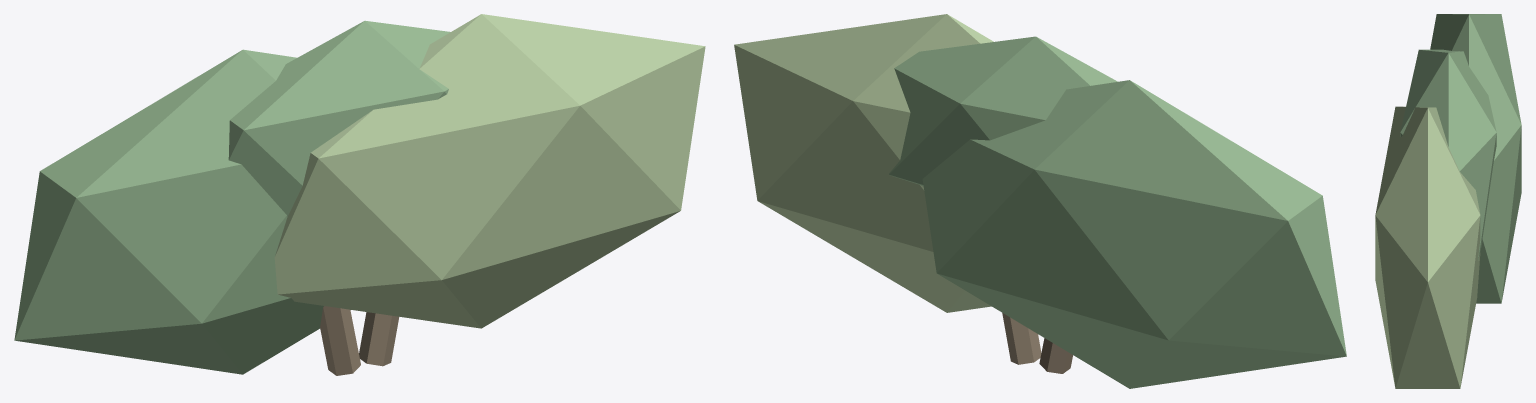
Rendered from SHRUB_COASTAL_LOW_001_v002_LOD_MAP.glb.
3 views of the same model, side by side, from view 1: azimuth 30°, elevation 25°; view 2: azimuth 150°, elevation 25°; view 3: azimuth 270°, elevation 25° (orthographic). The views are drawn at different scales.
Visible parts, largest first — view 1: SHRUB_COASTAL_LOW_001_LOD_MAP_CLUSTER_MAP_002, SHRUB_COASTAL_LOW_001_LOD_MAP_CLUSTER_MAP_001, SHRUB_COASTAL_LOW_001_LOD_MAP_CLUSTER_MAP_003, SHRUB_COASTAL_LOW_001_LOD_MAP_BRANCH_001, SHRUB_COASTAL_LOW_001_LOD_MAP_BRANCH_002; view 2: SHRUB_COASTAL_LOW_001_LOD_MAP_CLUSTER_MAP_001, SHRUB_COASTAL_LOW_001_LOD_MAP_CLUSTER_MAP_002, SHRUB_COASTAL_LOW_001_LOD_MAP_CLUSTER_MAP_003, SHRUB_COASTAL_LOW_001_LOD_MAP_BRANCH_002, SHRUB_COASTAL_LOW_001_LOD_MAP_BRANCH_001; view 3: SHRUB_COASTAL_LOW_001_LOD_MAP_CLUSTER_MAP_002, SHRUB_COASTAL_LOW_001_LOD_MAP_CLUSTER_MAP_001, SHRUB_COASTAL_LOW_001_LOD_MAP_CLUSTER_MAP_003.
Boxes of the visible parts, x1,y1,x2,y2 form: SHRUB_COASTAL_LOW_001_LOD_MAP_CLUSTER_MAP_002: (274,14,705,328); SHRUB_COASTAL_LOW_001_LOD_MAP_CLUSTER_MAP_001: (14,49,350,374); SHRUB_COASTAL_LOW_001_LOD_MAP_CLUSTER_MAP_003: (228,20,450,216); SHRUB_COASTAL_LOW_001_LOD_MAP_BRANCH_001: (320,306,360,375); SHRUB_COASTAL_LOW_001_LOD_MAP_BRANCH_002: (359,312,399,366); SHRUB_COASTAL_LOW_001_LOD_MAP_CLUSTER_MAP_001: (922,80,1346,388); SHRUB_COASTAL_LOW_001_LOD_MAP_CLUSTER_MAP_002: (734,14,993,312); SHRUB_COASTAL_LOW_001_LOD_MAP_CLUSTER_MAP_003: (889,36,1117,186); SHRUB_COASTAL_LOW_001_LOD_MAP_BRANCH_002: (1002,313,1041,364); SHRUB_COASTAL_LOW_001_LOD_MAP_BRANCH_001: (1039,338,1072,373); SHRUB_COASTAL_LOW_001_LOD_MAP_CLUSTER_MAP_002: (1375,106,1480,388); SHRUB_COASTAL_LOW_001_LOD_MAP_CLUSTER_MAP_001: (1430,14,1521,303); SHRUB_COASTAL_LOW_001_LOD_MAP_CLUSTER_MAP_003: (1400,49,1496,260).
Bounding box in the file's own units: 2.67 × 1.4 × 0.5683.
